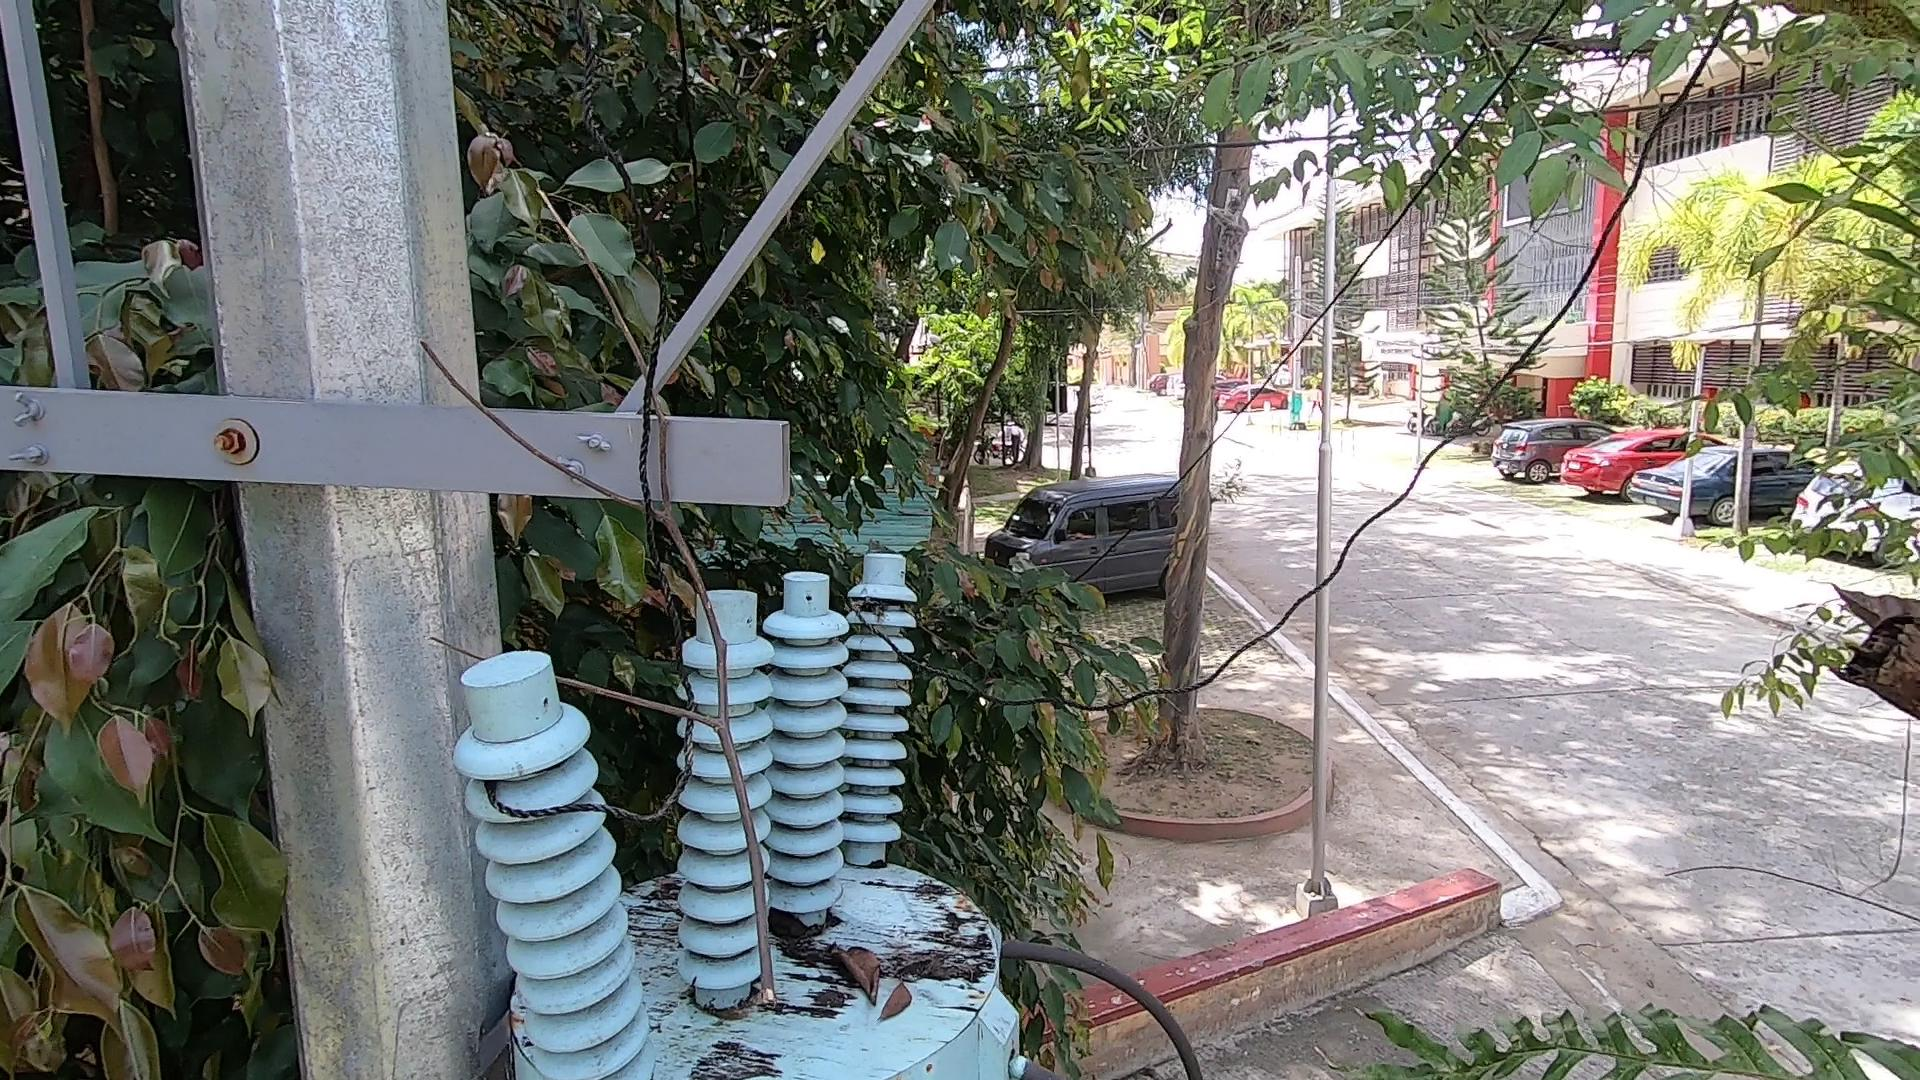leaf: (829, 934, 890, 1000), (764, 905, 825, 949), (881, 969, 920, 1029)
tree branch: (415, 189, 837, 1014)
